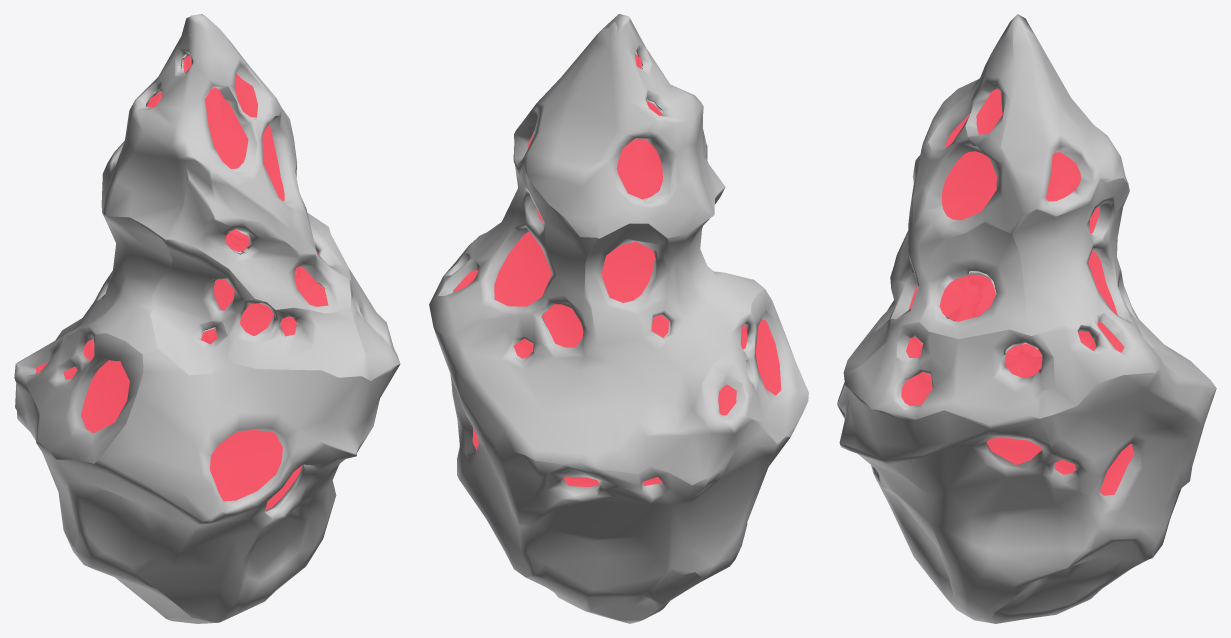
The picture shows the model from 3 angles, left to right: view 1: azimuth 30°, elevation 25°; view 2: azimuth 150°, elevation 25°; view 3: azimuth 270°, elevation 25°; orthographic projection.
Visible parts, largest first — view 1: SM_PoisonRockStack_light_LOD0; view 2: SM_PoisonRockStack_light_LOD0; view 3: SM_PoisonRockStack_light_LOD0.
Boxes of the visible parts, x1=… form: SM_PoisonRockStack_light_LOD0: x1=14, y1=14, x2=400, y2=623; SM_PoisonRockStack_light_LOD0: x1=429, y1=14, x2=808, y2=623; SM_PoisonRockStack_light_LOD0: x1=837, y1=14, x2=1216, y2=623.
Size of the model in its own units: 2.87 by 5.12 by 2.92.
